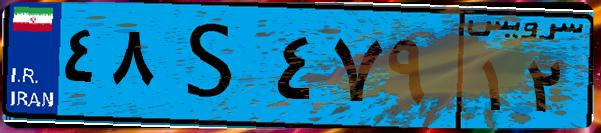1: (475, 38, 525, 113)
2: (525, 38, 570, 115)
4: (270, 28, 330, 110), (57, 26, 110, 100)
7: (330, 28, 385, 110)
8: (110, 28, 158, 98)
9: (385, 28, 445, 110)
S: (158, 12, 270, 120)
